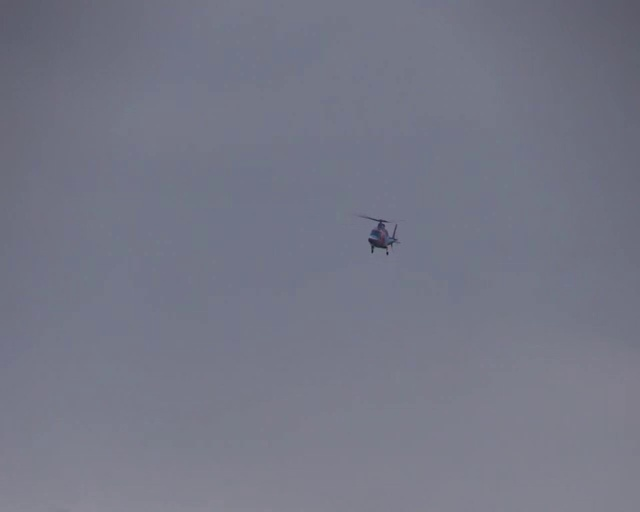HELICOPTER: (356, 213, 403, 256)
